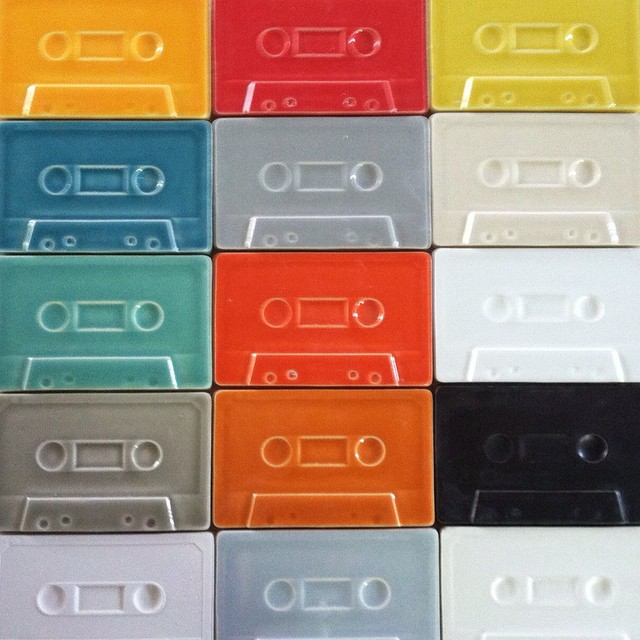Nonrec_Other: (13, 10, 638, 637)
